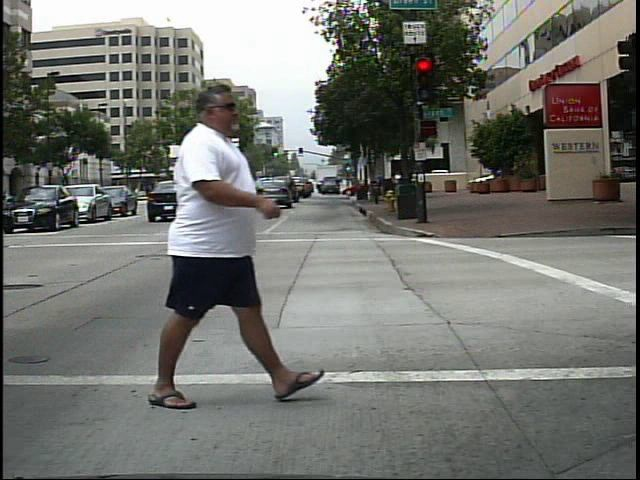person: (131, 78, 305, 413)
